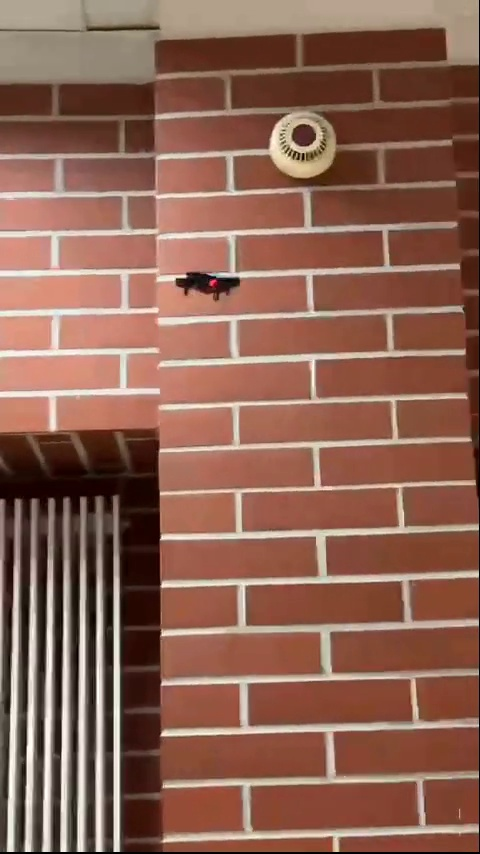drone: (169, 268, 245, 300)
